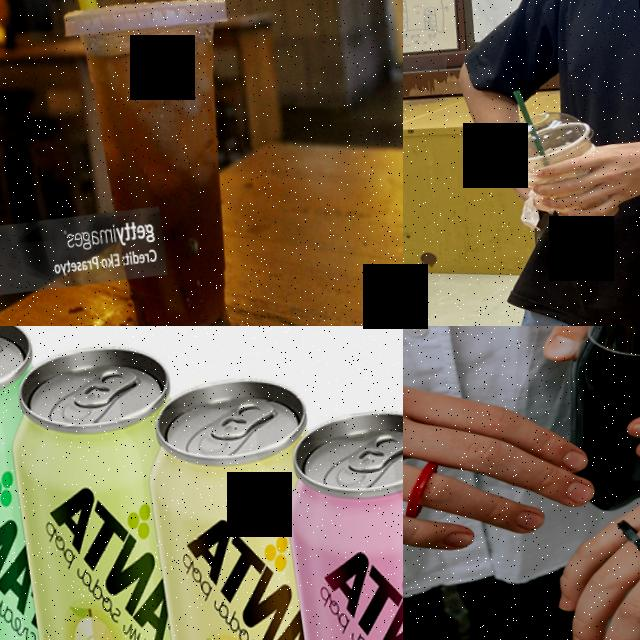bottle: (537, 326, 640, 515)
can: (2, 342, 220, 640), (134, 371, 351, 640), (269, 400, 403, 640), (0, 326, 81, 640)
cup: (62, 0, 264, 326), (503, 102, 622, 238)
